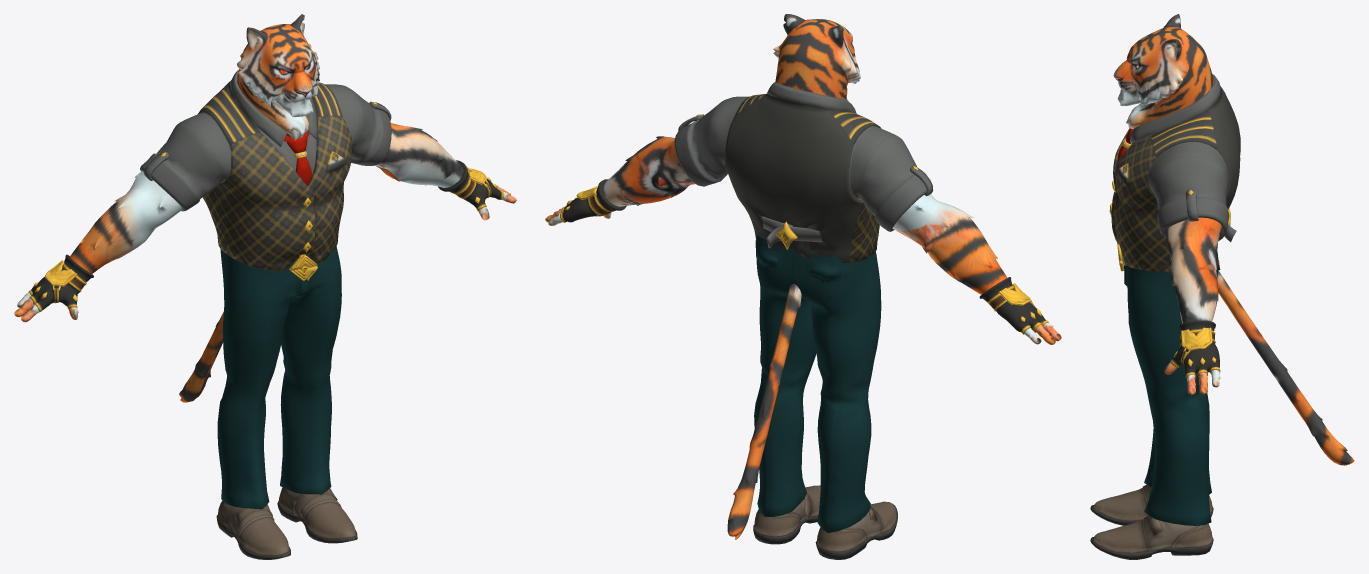
The model's file is apos.fbx.
The picture shows the model from 3 angles, left to right: view 1: azimuth 30°, elevation 25°; view 2: azimuth 150°, elevation 25°; view 3: azimuth 270°, elevation 25°; orthographic projection. The views are drawn at different scales.
Parts seen in each view (by area): view 1: 身体, 腿, 头, 领带; view 2: 身体, 腿, 头; view 3: 腿, 身体, 头.
Boxes of the visible parts, <box> form: 身体: <box>28,70,504,312</box>; 腿: <box>216,246,357,559</box>; 头: <box>14,14,516,402</box>; 领带: <box>284,132,312,185</box>; 身体: <box>560,82,1048,334</box>; 腿: <box>753,235,897,559</box>; 头: <box>545,14,1061,539</box>; 腿: <box>1090,250,1218,559</box>; 身体: <box>1109,73,1240,378</box>; 头: <box>1113,14,1354,465</box>.
Bounding box in the file's own units: 151 × 148 × 69.67.
Materials: 3 (3 with a texture image).
